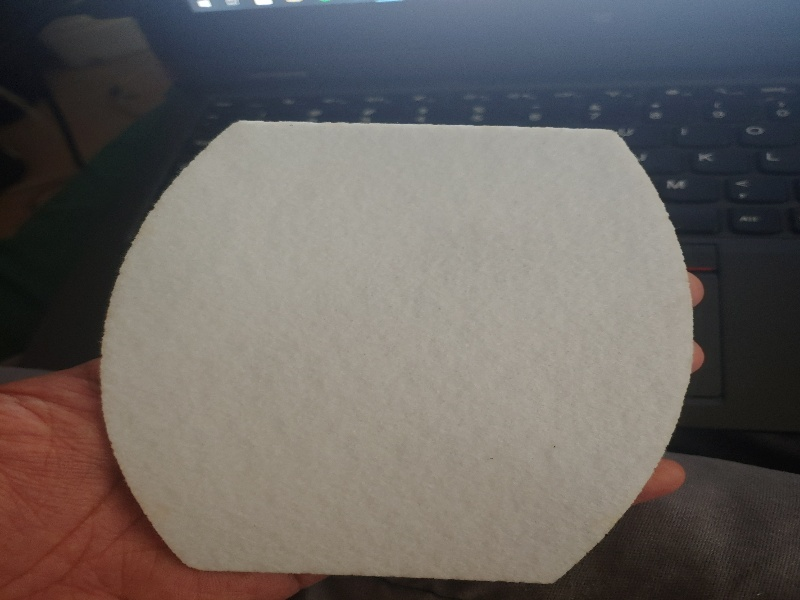Filter: (101, 118, 693, 583)
